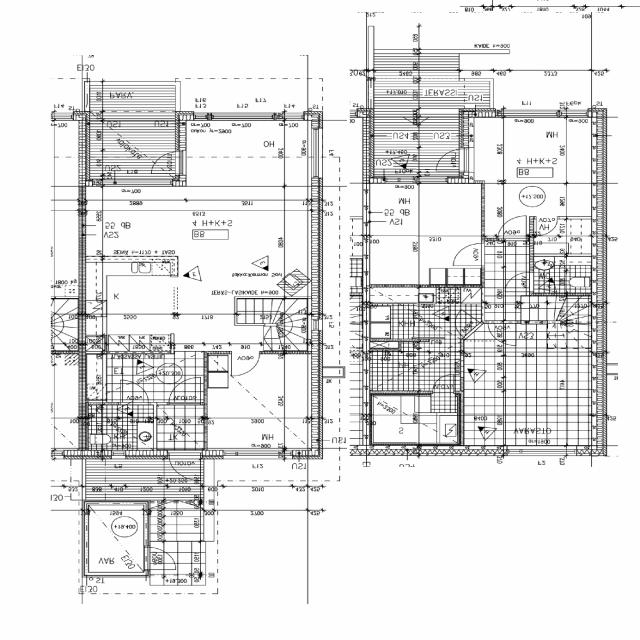door: (170, 449, 201, 484), (430, 148, 474, 172), (446, 310, 482, 338), (170, 376, 202, 405), (148, 152, 187, 173), (232, 350, 260, 376), (144, 547, 177, 569), (498, 213, 526, 238), (454, 243, 484, 266), (121, 380, 149, 404), (489, 320, 516, 344), (505, 272, 534, 291), (432, 373, 454, 396), (536, 216, 558, 235)
